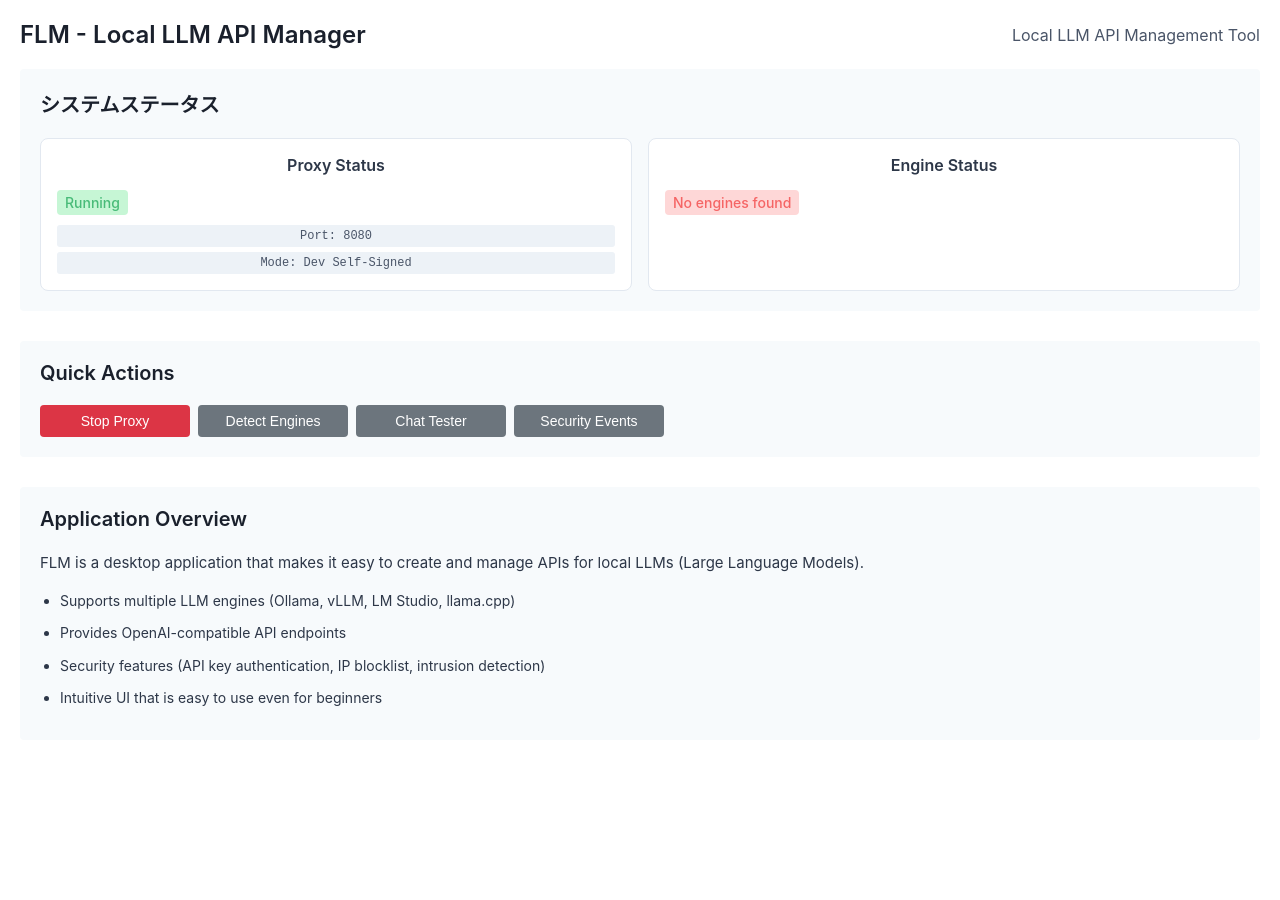
Test: Home › should show success message when proxy stops successfully
i18nを使用しているため、柔軟にチェック
Click the button "Stop Proxy" at [115, 421], box [40,405,190,437]
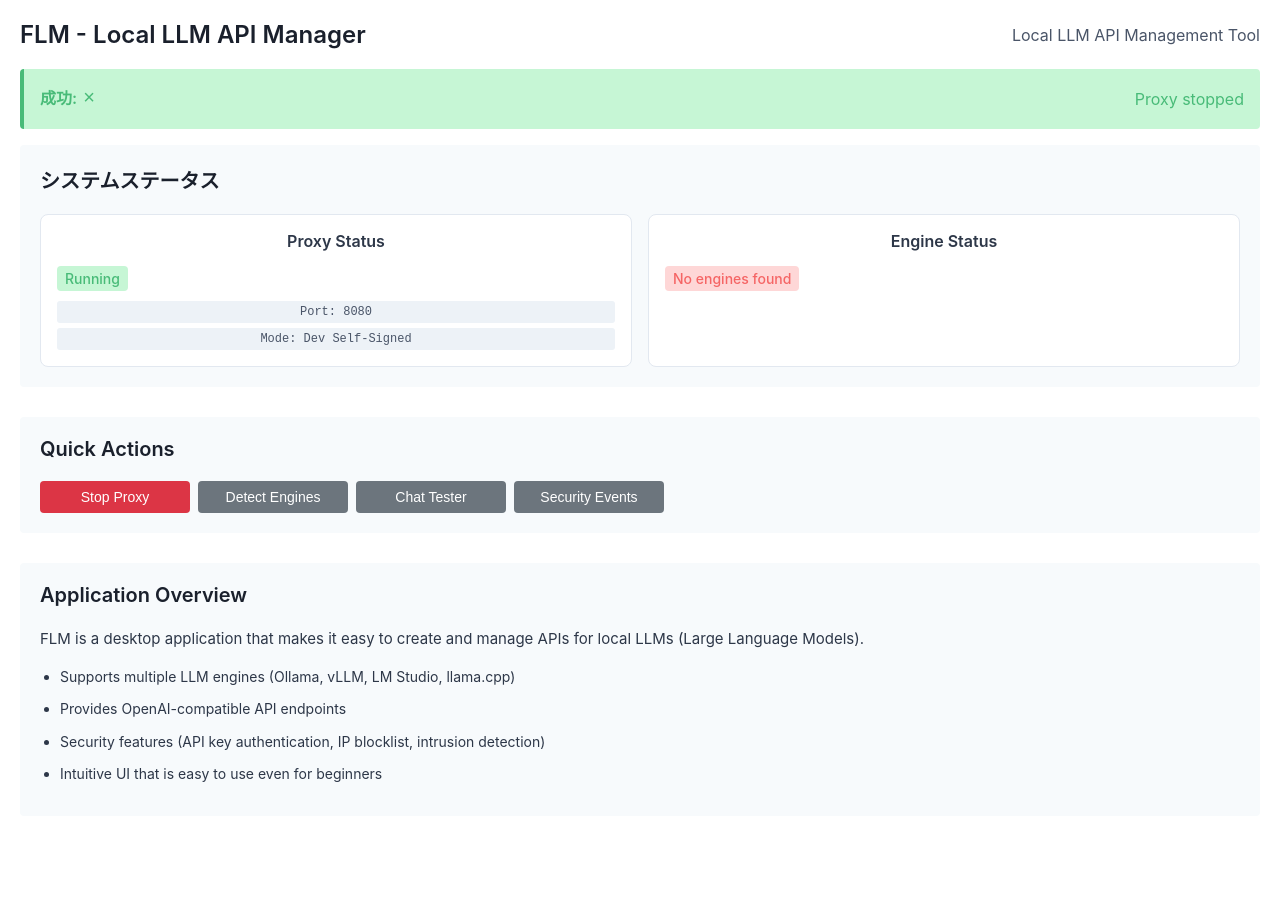
Result: the text "Proxy stopped" is shown at [1135,89,1244,109]
